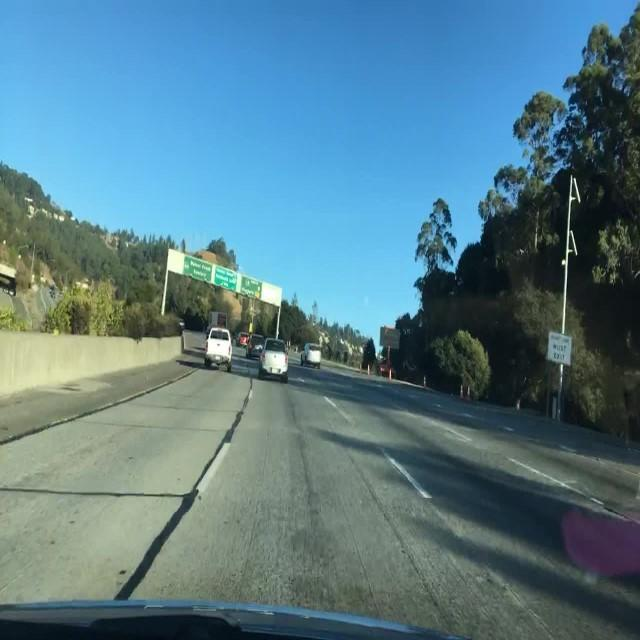normal: (237, 320, 298, 393), (204, 328, 233, 369), (297, 343, 320, 365)
